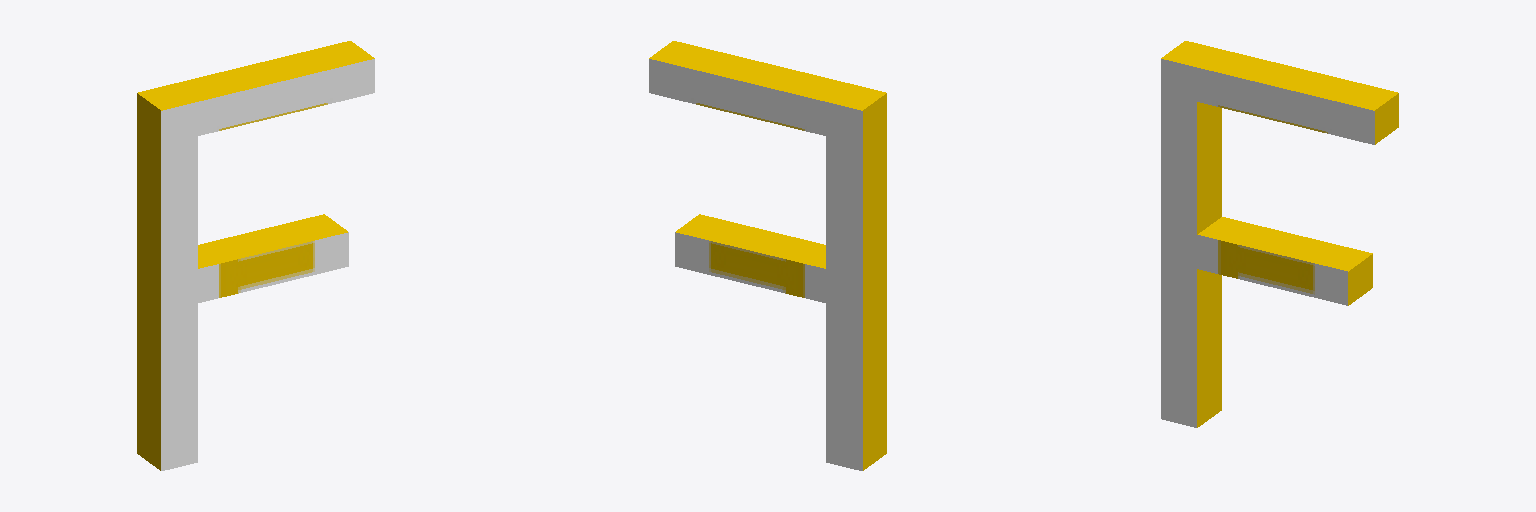
The picture shows the model from 3 angles: view 1: azimuth 30°, elevation 25°; view 2: azimuth 150°, elevation 25°; view 3: azimuth 330°, elevation 25°; orthographic projection.
Bounding box in the file's own units: 50.05 × 80.63 × 10.01.
5 materials, 1 textured.